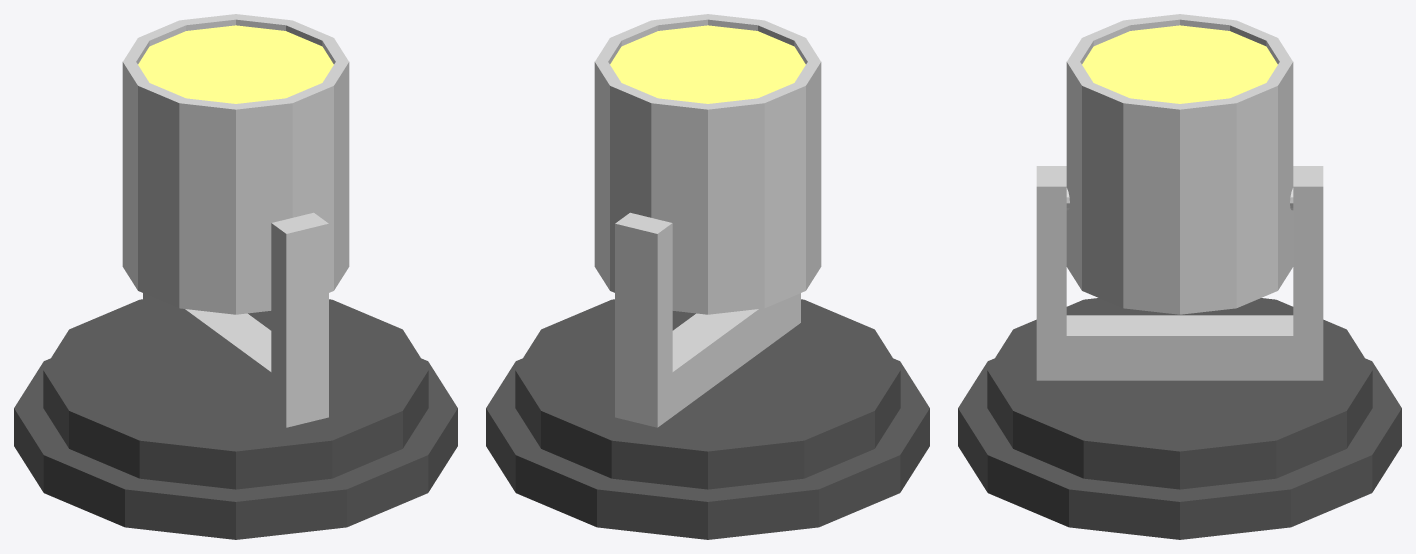
File: Proj.fbx
The picture shows the model from 3 angles, left to right: view 1: azimuth 30°, elevation 25°; view 2: azimuth 150°, elevation 25°; view 3: azimuth 270°, elevation 25°; orthographic projection.
Visible parts, largest first — view 1: Proj; view 2: Proj; view 3: Proj.
Part boxes in pixels (x1=…): Proj: x1=14, y1=14, x2=457, y2=539; Proj: x1=486, y1=14, x2=929, y2=539; Proj: x1=958, y1=14, x2=1401, y2=539.
Size of the model in its own units: 9.03 by 9.03 by 8.62.
